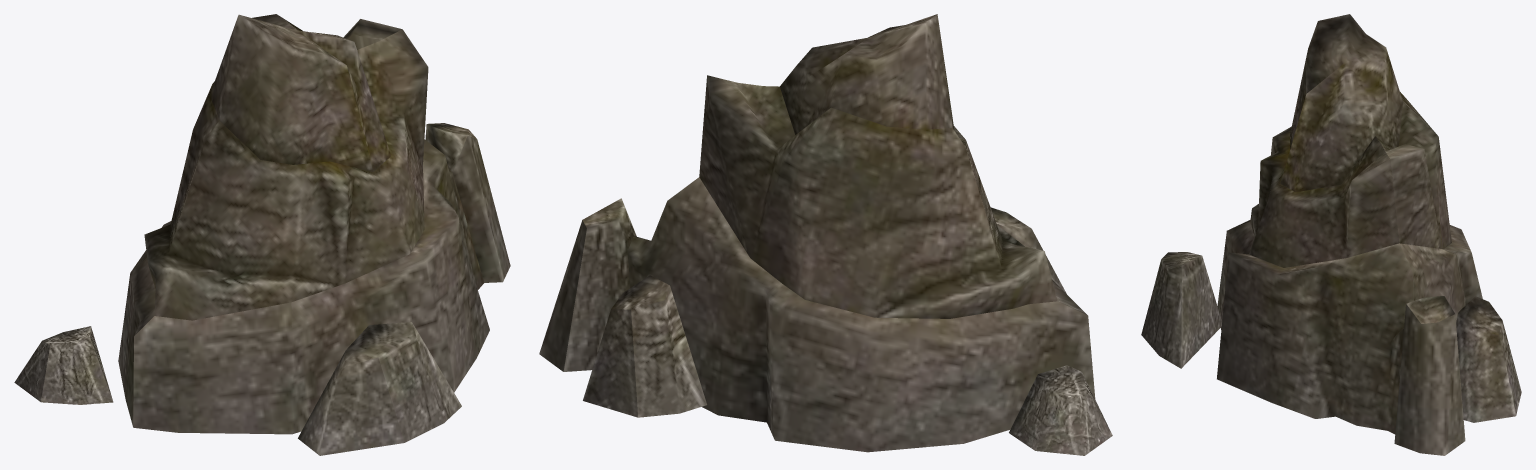
The model's file is StoneDeposit_2-transformed.glb.
The picture shows the model from 3 angles, left to right: view 1: azimuth 30°, elevation 25°; view 2: azimuth 150°, elevation 25°; view 3: azimuth 270°, elevation 25°; orthographic projection. The views are drawn at different scales.
Visible parts, largest first — view 1: default; view 2: default; view 3: default.
Boxes of the visible parts, box(x1,y1,x2,y2) form: default: box(14, 14, 510, 455); default: box(539, 14, 1112, 455); default: box(1141, 14, 1521, 455).
Size of the model in its own units: 3.55 by 2.39 by 2.67.
Materials: 1 (1 with a texture image).
